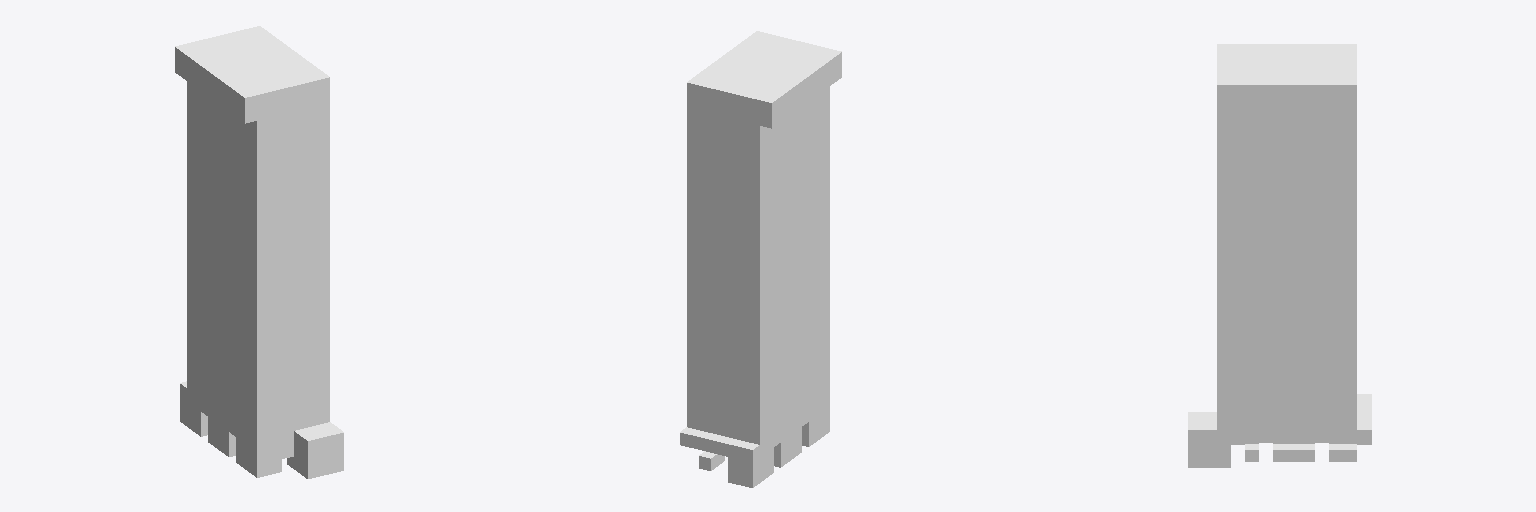
File: enemy_001-3.obj
3 views of the same model, side by side, from view 1: azimuth 30°, elevation 25°; view 2: azimuth 150°, elevation 25°; view 3: azimuth 270°, elevation 25° (orthographic).
Parts seen in each view (by area): view 1: object 1; view 2: object 1; view 3: object 1.
Boxes of the visible parts, x1,y1,x2,y2 form: object 1: [175, 26, 343, 478]; object 1: [680, 31, 841, 487]; object 1: [1188, 44, 1371, 467].
Bounding box in the file's own units: 0.7 × 3 × 1.3.